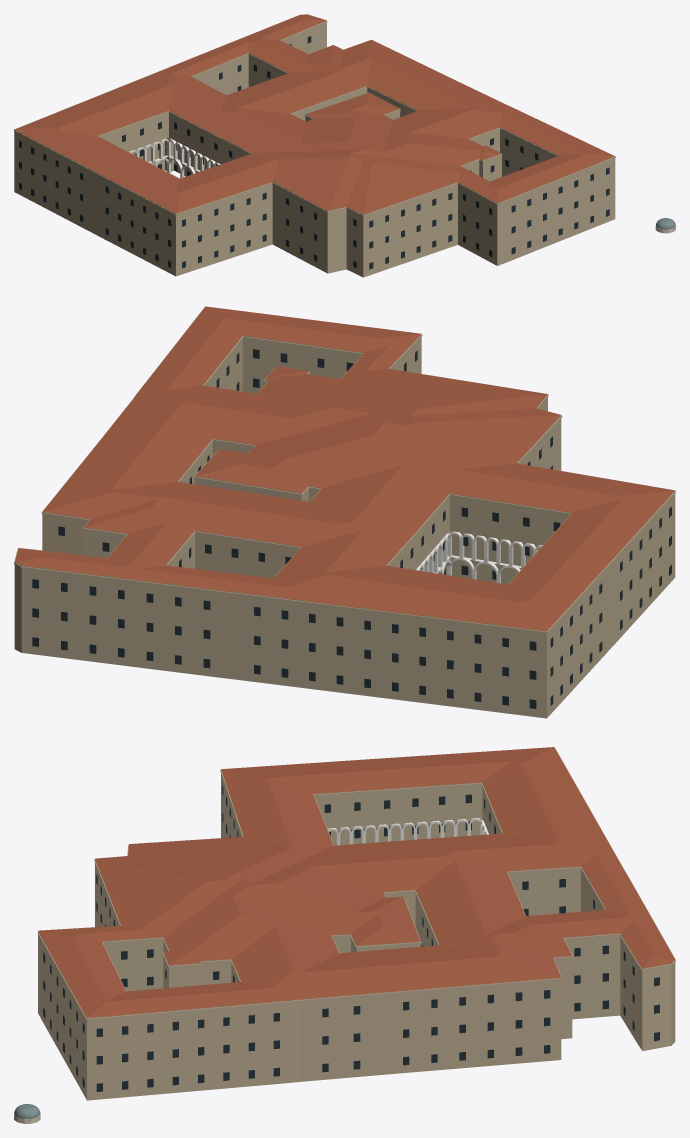
Rendered from brera.glb.
3 views of the same model, one above another, from view 1: azimuth 30°, elevation 25°; view 2: azimuth 150°, elevation 25°; view 3: azimuth 270°, elevation 25° (orthographic). The views are drawn at different scales.
Parts seen in each view (by area): view 1: primary-roof, primary-envelope, window-rhythm, cornice, open-loggia; view 2: primary-roof, primary-envelope, window-rhythm, cornice, open-loggia; view 3: primary-roof, primary-envelope, window-rhythm, cornice, open-loggia.
Boxes of the visible parts, <box> form: primary-roof: <box>15,14,614,214</box>; primary-envelope: <box>14,20,615,277</box>; window-rhythm: <box>19,36,609,269</box>; cornice: <box>14,21,615,216</box>; open-loggia: <box>129,138,220,178</box>; primary-roof: <box>15,306,674,631</box>; primary-envelope: <box>14,334,675,718</box>; window-rhythm: <box>32,349,671,708</box>; cornice: <box>14,307,675,633</box>; open-loggia: <box>416,531,542,583</box>; primary-roof: <box>38,747,674,1018</box>; primary-envelope: <box>38,774,675,1100</box>; window-rhythm: <box>43,785,659,1091</box>; cornice: <box>37,748,675,1020</box>; open-loggia: <box>327,818,488,845</box>.
Size of the model in its own units: 16 by 2.38 by 15.18.
